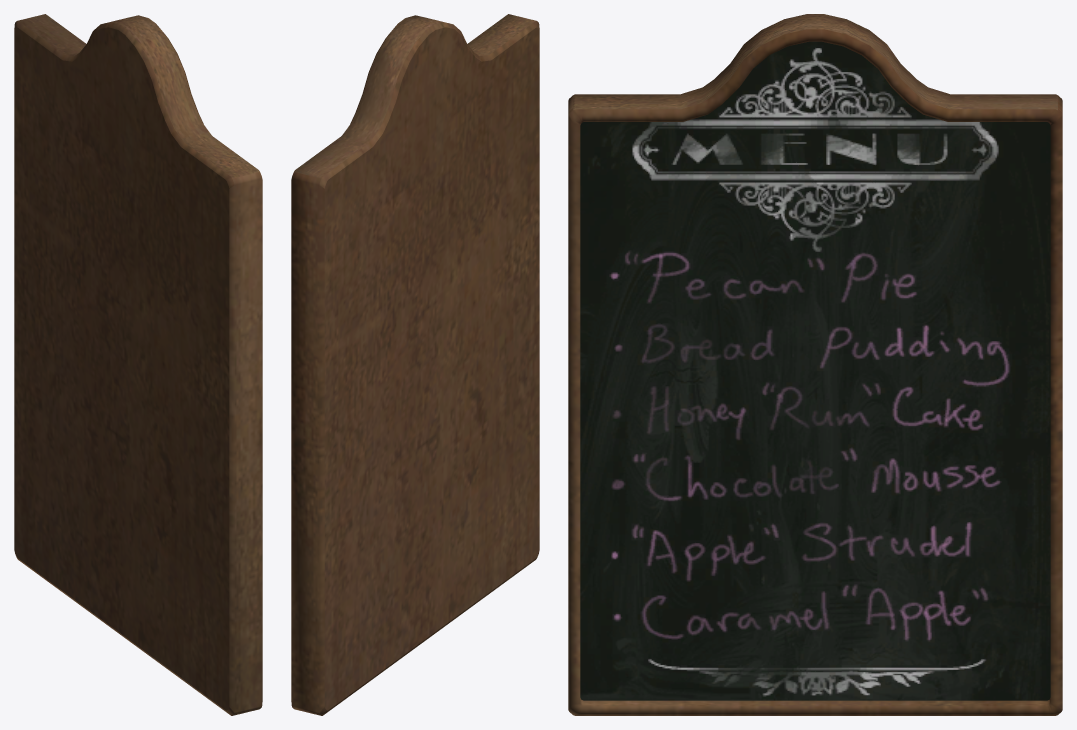
The model's file is blackboard 1.fbx.
3 views of the same model, side by side, from view 1: azimuth 30°, elevation 25°; view 2: azimuth 150°, elevation 25°; view 3: azimuth 270°, elevation 25° (orthographic). The views are drawn at different scales.
Visible parts, largest first — view 1: BlackBoard01; view 2: BlackBoard01; view 3: BlackBoard01.
Boxes of the visible parts, bbox=[...] form: BlackBoard01: bbox=[14, 14, 262, 715]; BlackBoard01: bbox=[291, 14, 539, 715]; BlackBoard01: bbox=[568, 14, 1062, 715].
Bounding box in the file's own units: 944 × 16487 × 10763.
